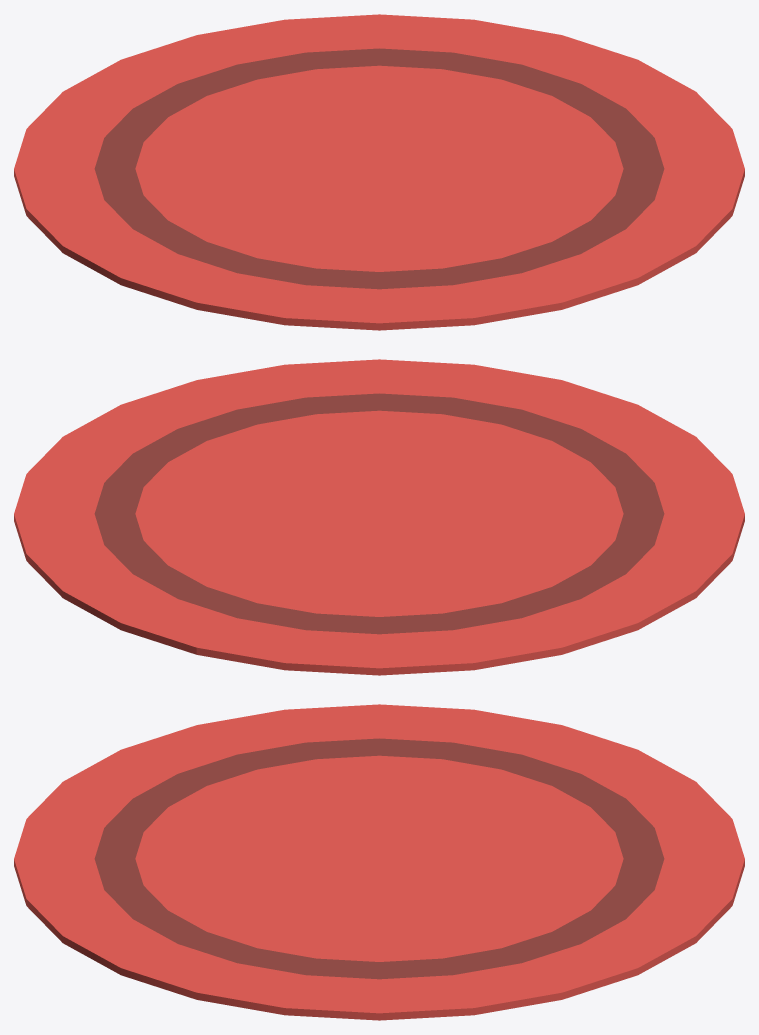
The model's file is Rug Round.glb.
3 views of the same model, one above another, from view 1: azimuth 30°, elevation 25°; view 2: azimuth 150°, elevation 25°; view 3: azimuth 270°, elevation 25° (orthographic).
Visible parts, largest first — view 1: rugRound; view 2: rugRound; view 3: rugRound.
Boxes of the visible parts, bbox=[...] form: rugRound: bbox=[14, 14, 744, 330]; rugRound: bbox=[14, 359, 744, 675]; rugRound: bbox=[14, 704, 744, 1020].
Size of the model in its own units: 0.92 by 0.01 by 0.92.
